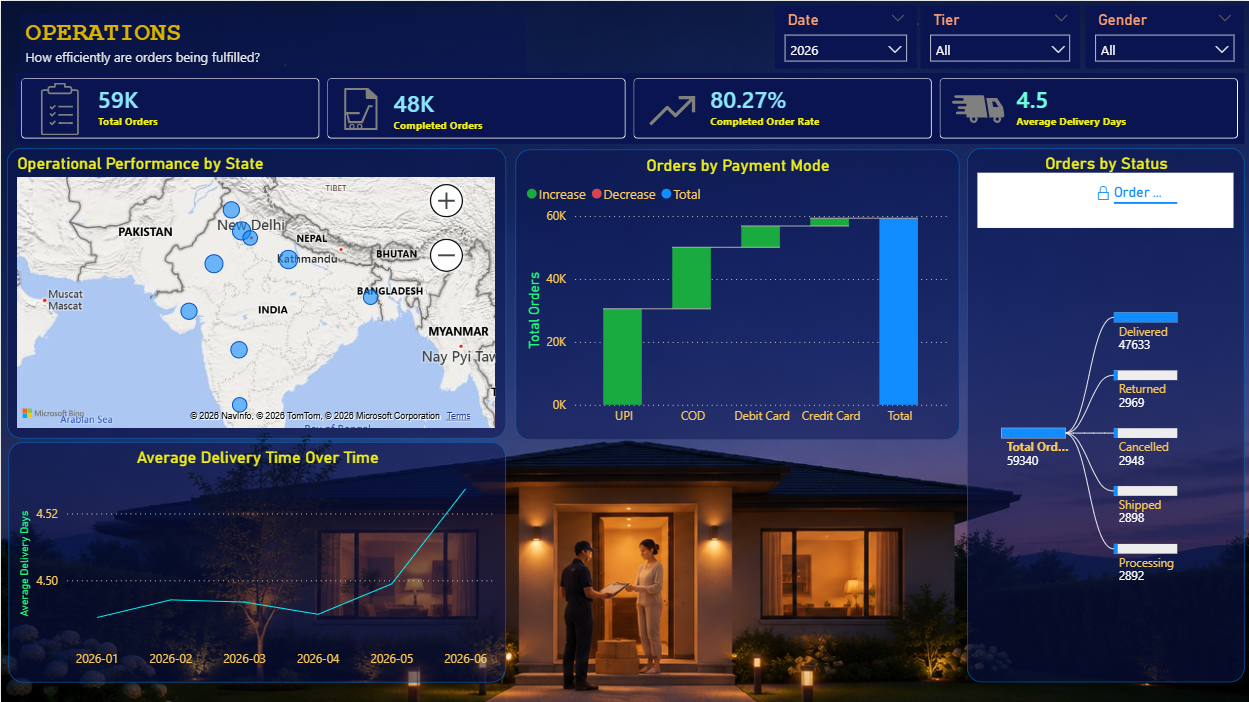

Layout of this report page (visuals, bound fields, positions):
{"tool":"powerbi","page":{"name":"Operations","canvas":[1280,720],"ordinal":4},"visuals":[{"type":"cardVisual","fields":{"Data":["_Measure.Total Orders","_Measure.Completed Orders","_Measure.Completed Order Rate","_Measure.Average Delivery Days"]},"box":[15.1,74.2,1259.8,92.4],"z":0},{"type":"clusteredBarChart","title":"Orders by Status","fields":{"Category":["Fact_Sales.order_status"],"Y":["_Measure.Total Orders"]},"box":[14.8,171.6,446.4,220.2],"z":1000},{"type":"donutChart","title":"Orders by Delivery Time","fields":{"Category":["Fact_Sales.delivery_days"],"Y":["_Measure.Total Orders"]},"box":[466,171.8,335,220.4],"z":2000},{"type":"slicer","fields":{"Values":["Dim_Date.Year"]},"box":[794.4,5.2,145.5,64.9],"z":3000},{"type":"lineChart","title":"Average Delivery Time Over Time","fields":{"Category":["Dim_Date.Year Month"],"Y":["_Measure.Average Delivery Days"]},"box":[14.7,396.5,616,314.3],"z":4000},{"type":"clusteredBarChart","title":"Orders by Payment Mode","fields":{"Y":["_Measure.Total Orders"],"Category":["Fact_Sales.payment_mode"]},"box":[803.9,171.8,469.9,220.4],"z":5000},{"type":"pivotTable","title":"Operational Performance by State","fields":{"Rows":["Fact_Sales.state"],"Values":["_Measure.Total Orders","_Measure.Completed Order Rate","_Measure.Average Delivery Days","_Measure.Net Transaction Value"]},"box":[634.6,396.5,640.3,314.3],"z":6000},{"type":"slicer","fields":{"Values":["Dim_Customers.customer_tier"]},"box":[943.3,5.2,163.6,64.9],"z":7000},{"type":"slicer","fields":{"Values":["Dim_Customers.gender"]},"box":[1111.7,5.2,162.3,64.9],"z":8000},{"type":"textbox","box":[19.7,12.1,519.4,62.1],"z":9000}]}

Visuals, with their boxes in screenshot pixels (x1, y1, x2, y2), scaled from the page's 1280x720 canvas onto the 1249x702 screenshot:
cardVisual - _Measure.Total Orders x _Measure.Completed Orders: box=[15, 72, 1244, 162]
"Orders by Status" clusteredBarChart: box=[14, 167, 450, 382]
"Orders by Delivery Time" donutChart: box=[455, 168, 782, 382]
slicer - Dim_Date.Year: box=[775, 5, 917, 68]
"Average Delivery Time Over Time" lineChart: box=[14, 387, 615, 693]
"Orders by Payment Mode" clusteredBarChart: box=[784, 168, 1243, 382]
"Operational Performance by State" pivotTable: box=[619, 387, 1244, 693]
slicer - Dim_Customers.customer_tier: box=[920, 5, 1080, 68]
slicer - Dim_Customers.gender: box=[1085, 5, 1243, 68]
textbox: box=[19, 12, 526, 72]
